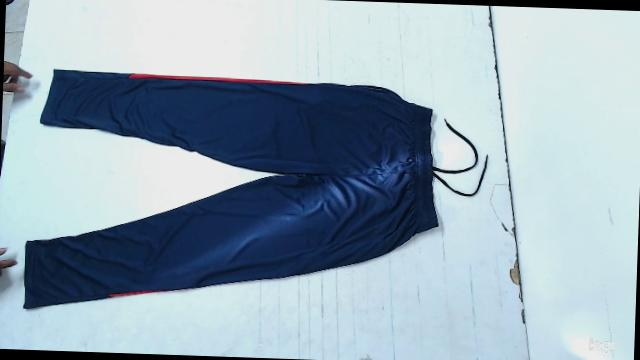new-garment: (24, 70, 437, 308)
